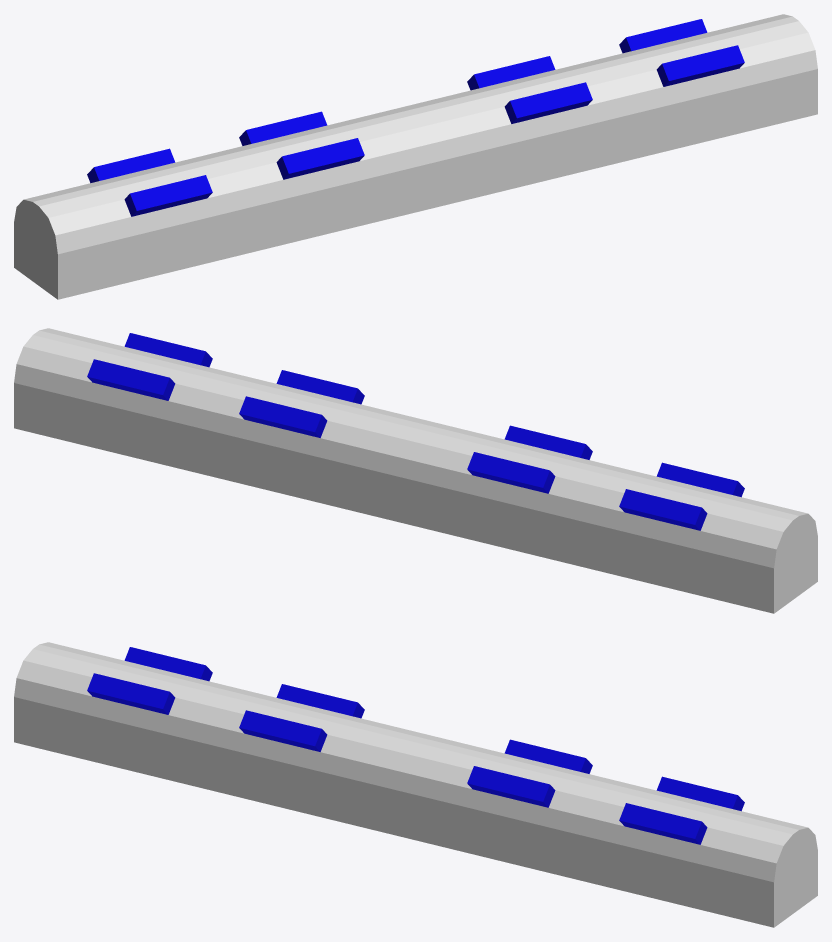
The model's file is MagnetFlatLong.fbx.
The picture shows the model from 3 angles, top to bottom: view 1: azimuth 30°, elevation 25°; view 2: azimuth 150°, elevation 25°; view 3: azimuth 330°, elevation 25°; orthographic projection.
Visible parts, largest first — view 1: Cube.002; view 2: Cube.002; view 3: Cube.002.
Part boxes in pixels (left/top/right/bottom): Cube.002: left=14, top=14, right=817, bottom=299; Cube.002: left=14, top=328, right=817, bottom=613; Cube.002: left=14, top=642, right=817, bottom=927.
Bounding box in the file's own units: 1000 × 107 × 113.
